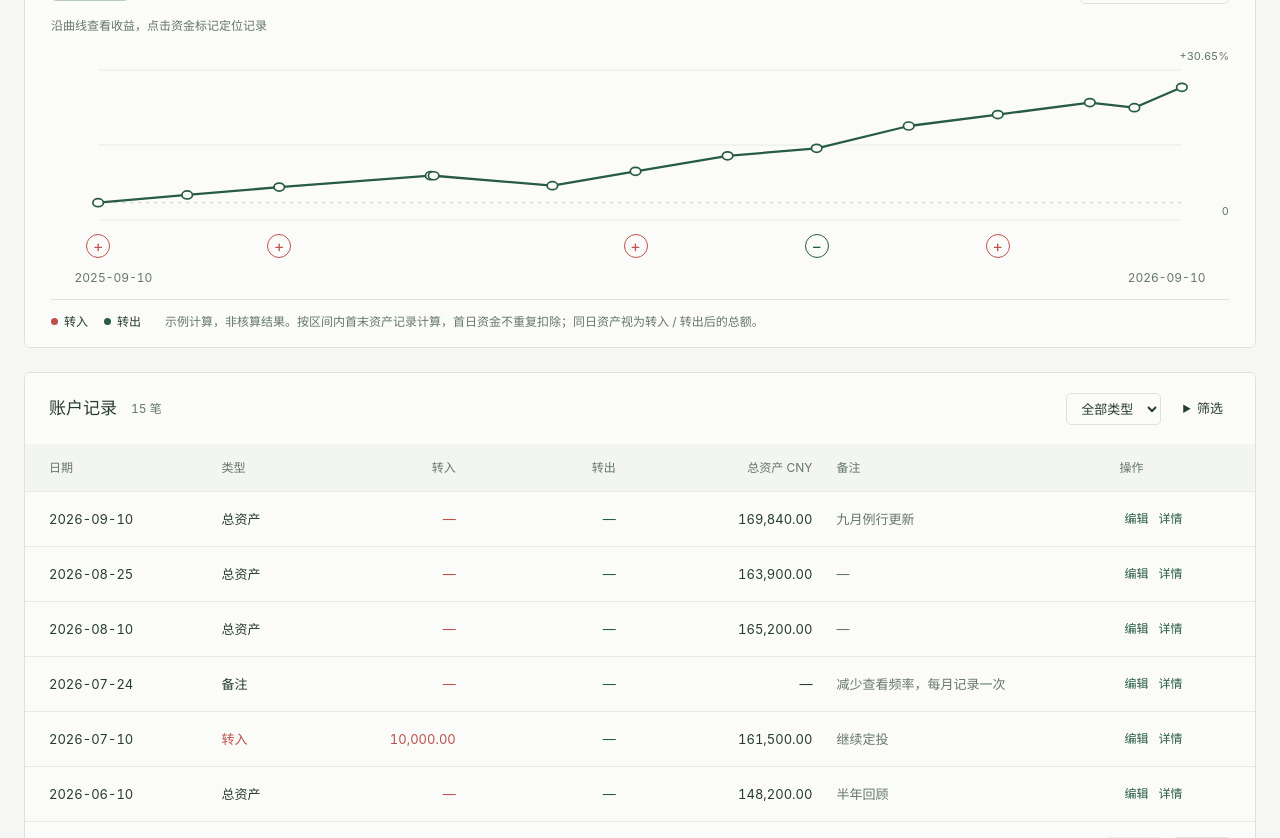
Test: locates a real event row across pages, clearing only record filters
(page scrolled)
Select "备注" in the dropdown named "记录类型". click: (1114, 409)
box: [1066,393,1161,425]
(page scrolled)
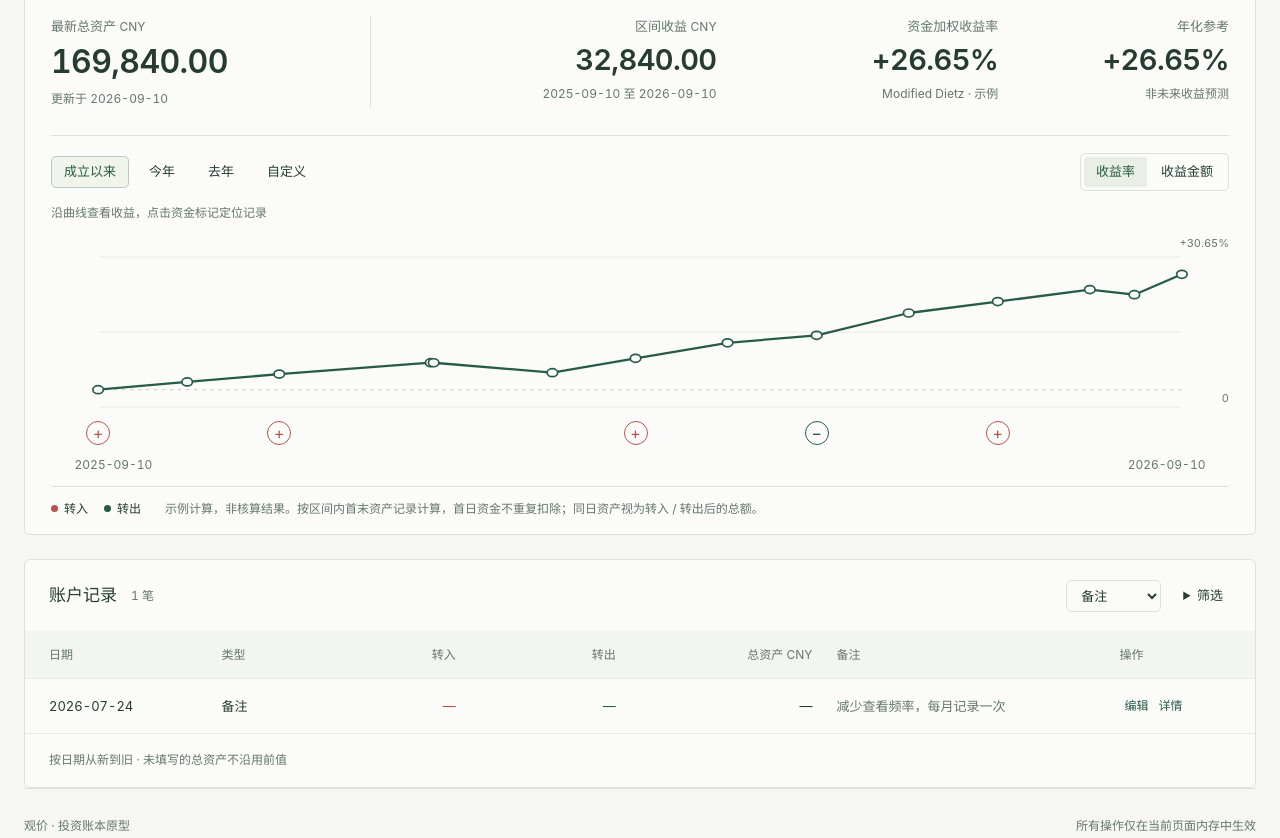
Click the 1st button with class "lp-event". click: (98, 433)
box: [86,421,110,445]
(page scrolled)
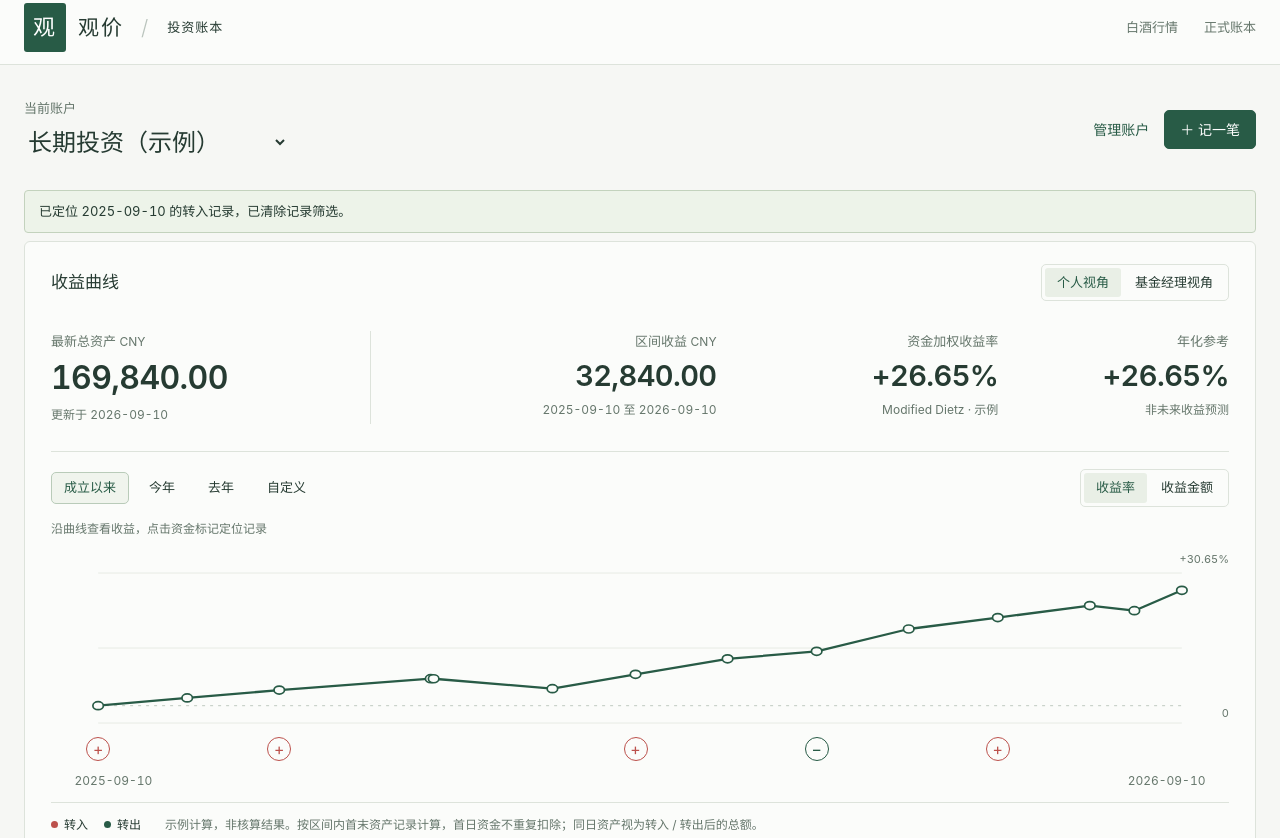
Now the message shows "已定位", box [39,203,351,219]
